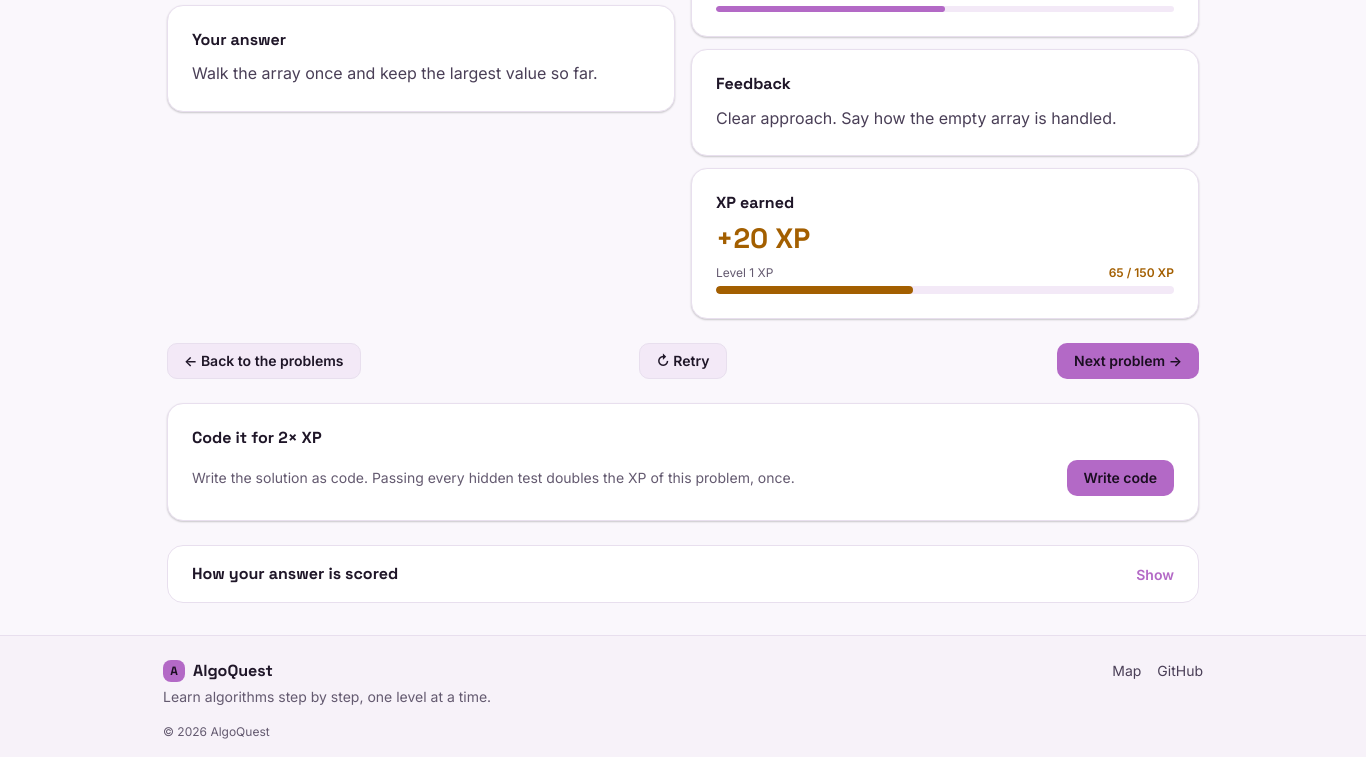
it: code panel › offers JavaScript only when the site has no Java runner
(page scrolled)
Click the button "Write code" at (1120, 478), box [1067, 460, 1174, 496]
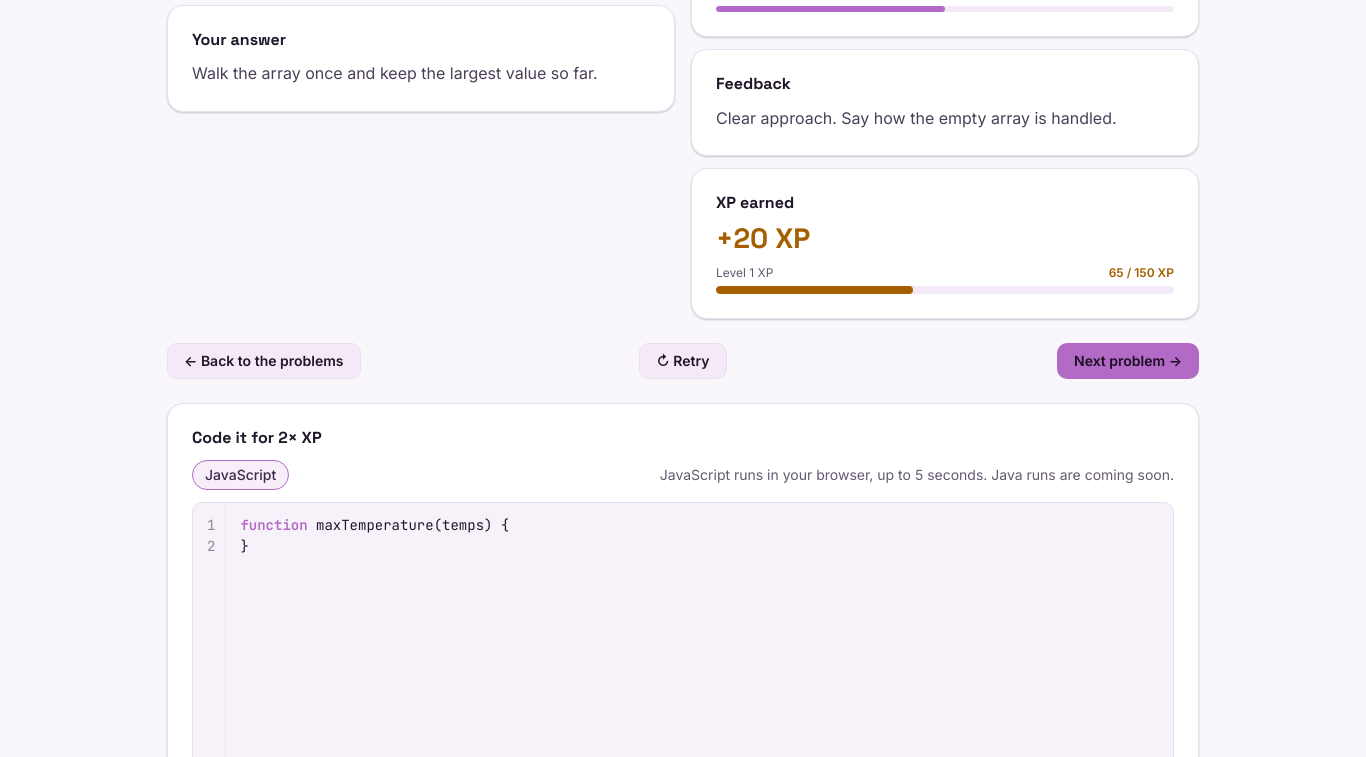
Now the text "Java runs are coming soon" is shown, box [660, 466, 1174, 483]
